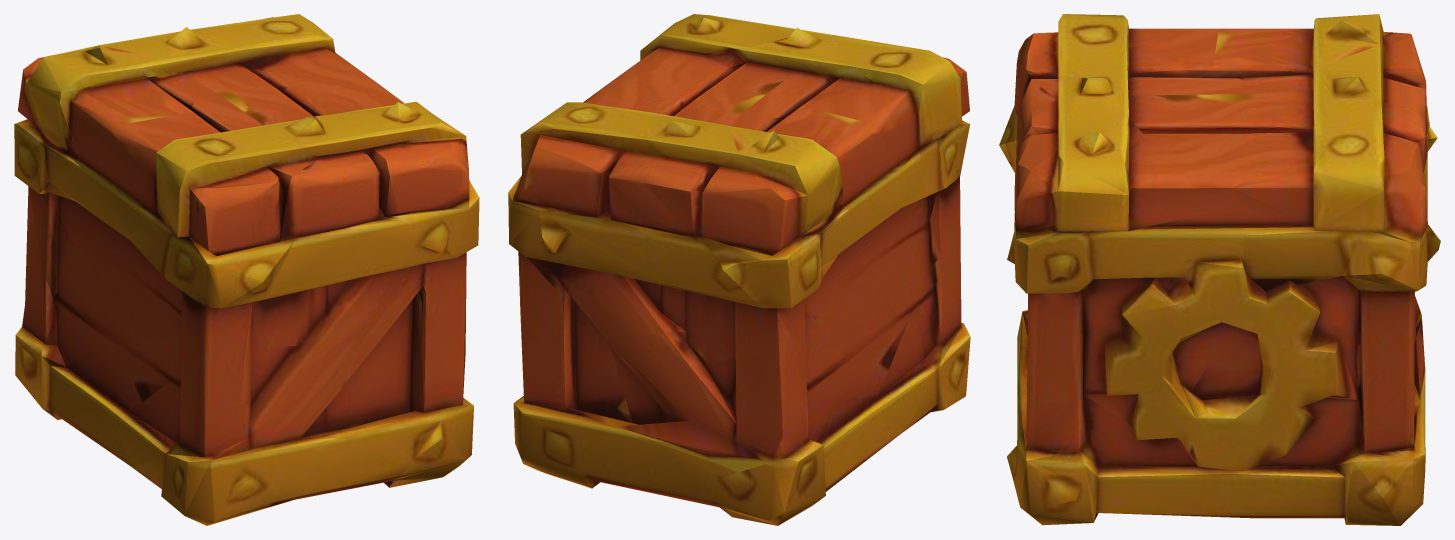
The model's file is crate.glb.
3 views of the same model, side by side, from view 1: azimuth 30°, elevation 25°; view 2: azimuth 150°, elevation 25°; view 3: azimuth 270°, elevation 25° (orthographic). The views are drawn at different scales.
Visible parts, largest first — view 1: tripo_node_4dd3e96b-e445-4490-91ee-c51d587acd70; view 2: tripo_node_4dd3e96b-e445-4490-91ee-c51d587acd70; view 3: tripo_node_4dd3e96b-e445-4490-91ee-c51d587acd70.
Part boxes in pixels (x1=…): tripo_node_4dd3e96b-e445-4490-91ee-c51d587acd70: x1=14, y1=14, x2=479, y2=525; tripo_node_4dd3e96b-e445-4490-91ee-c51d587acd70: x1=508, y1=14, x2=970, y2=525; tripo_node_4dd3e96b-e445-4490-91ee-c51d587acd70: x1=999, y1=14, x2=1440, y2=525.
Size of the model in its own units: 0.8447 by 0.99 by 0.999.
1 material, 1 textured.
